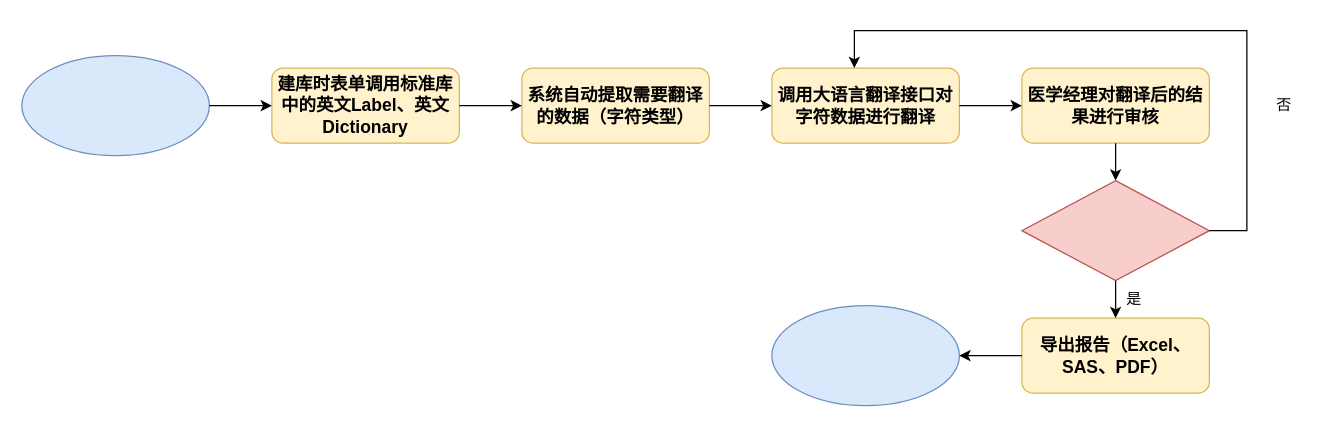
Some shapes in this 1344 by 428 pixel diagram are drawn without their labels. Each missing label, with the box of its shape:
使用EDC翻译功能: (21, 54, 209, 156)
审核是否通过: (1021, 179, 1209, 281)
翻译工作结束: (771, 304, 959, 406)
